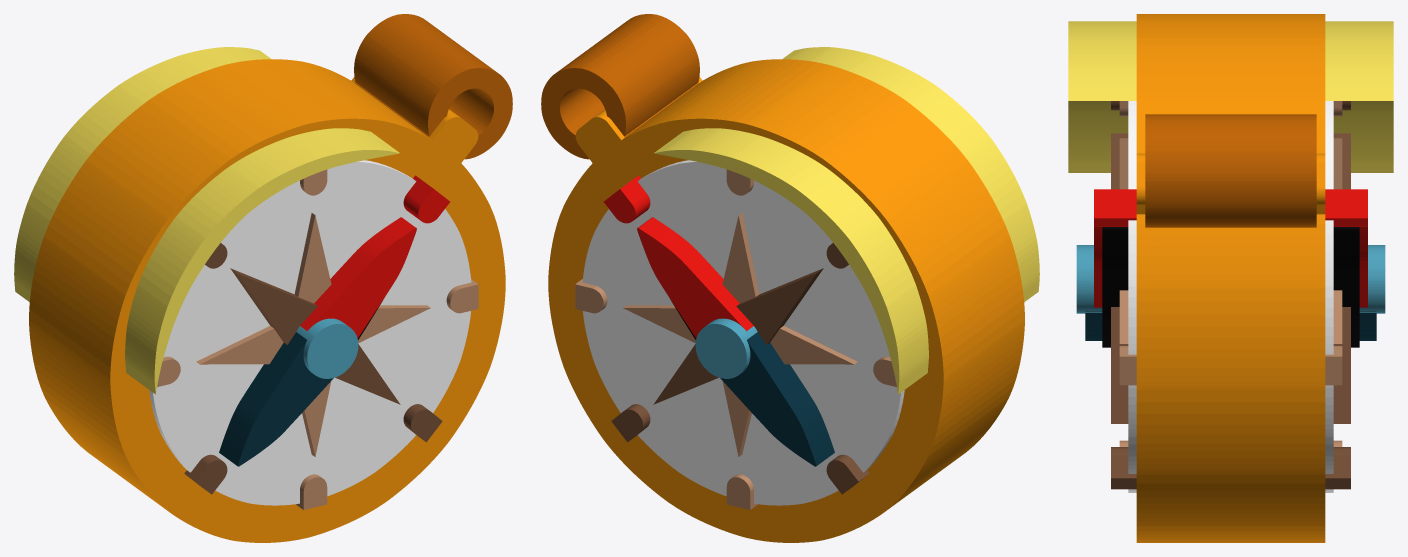
The picture shows the model from 3 angles, left to right: view 1: azimuth 30°, elevation 25°; view 2: azimuth 150°, elevation 25°; view 3: azimuth 270°, elevation 25°; orthographic projection. The views are drawn at different scales.
Visible parts, largest first — view 1: U+1F9ED_layer01_obj01, U+1F9ED_layer02_obj00, U+1F9ED_layer09_obj00, U+1F9ED_layer00_obj00, U+1F9ED_layer07_obj00, U+1F9ED_layer06_obj00, U+1F9ED_layer03_obj00, U+1F9ED_layer04_obj01, U+1F9ED_layer08_obj00, U+1F9ED_layer01_obj00, U+1F9ED_layer06_obj01, U+1F9ED_layer04_obj00 (+3 smaller); view 2: U+1F9ED_layer01_obj01, U+1F9ED_layer02_obj00, U+1F9ED_layer09_obj00, U+1F9ED_layer00_obj00, U+1F9ED_layer07_obj00, U+1F9ED_layer06_obj00, U+1F9ED_layer03_obj00, U+1F9ED_layer04_obj01, U+1F9ED_layer08_obj00, U+1F9ED_layer01_obj00, U+1F9ED_layer06_obj01, U+1F9ED_layer04_obj00 (+3 smaller); view 3: U+1F9ED_layer01_obj01, U+1F9ED_layer00_obj00, U+1F9ED_layer09_obj00, U+1F9ED_layer02_obj00, U+1F9ED_layer05_obj00, U+1F9ED_layer04_obj01, U+1F9ED_layer06_obj01, U+1F9ED_layer08_obj00, U+1F9ED_layer03_obj00, U+1F9ED_layer04_obj02, U+1F9ED_layer06_obj00, U+1F9ED_layer03_obj01 (+2 smaller).
Part boxes in pixels (x1,y1,x2,y2): U+1F9ED_layer01_obj01: (29,59,505,542); U+1F9ED_layer02_obj00: (149,160,471,505); U+1F9ED_layer09_obj00: (14,47,399,394); U+1F9ED_layer00_obj00: (354,14,512,159); U+1F9ED_layer07_obj00: (219,332,333,466); U+1F9ED_layer06_obj00: (300,217,416,338); U+1F9ED_layer03_obj00: (196,213,430,456); U+1F9ED_layer04_obj01: (230,268,400,404); U+1F9ED_layer08_obj00: (296,318,358,378); U+1F9ED_layer01_obj00: (351,77,478,167); U+1F9ED_layer06_obj01: (403,175,450,223); U+1F9ED_layer04_obj00: (184,454,227,494); U+1F9ED_layer01_obj01: (548,59,1024,542); U+1F9ED_layer02_obj00: (582,160,904,505); U+1F9ED_layer09_obj00: (654,47,1039,394); U+1F9ED_layer00_obj00: (541,14,699,159); U+1F9ED_layer07_obj00: (720,332,834,466); U+1F9ED_layer06_obj00: (637,217,753,338); U+1F9ED_layer03_obj00: (623,213,857,456); U+1F9ED_layer04_obj01: (653,268,823,404); U+1F9ED_layer08_obj00: (695,318,757,378); U+1F9ED_layer01_obj00: (575,77,702,171); U+1F9ED_layer06_obj01: (603,175,650,223); U+1F9ED_layer04_obj00: (826,454,869,494); U+1F9ED_layer01_obj01: (1136,14,1325,542); U+1F9ED_layer00_obj00: (1145,114,1316,227); U+1F9ED_layer09_obj00: (1068,21,1393,172); U+1F9ED_layer02_obj00: (1128,101,1333,492); U+1F9ED_layer05_obj00: (1102,227,1359,347); U+1F9ED_layer04_obj01: (1111,133,1350,423); U+1F9ED_layer06_obj01: (1094,189,1367,226); U+1F9ED_layer08_obj00: (1076,245,1385,313); U+1F9ED_layer03_obj00: (1119,138,1342,343); U+1F9ED_layer04_obj02: (1111,447,1350,489); U+1F9ED_layer06_obj00: (1094,227,1367,307); U+1F9ED_layer03_obj01: (1119,346,1342,385).
Size of the model in its own units: 0.3172 by 0.3174 by 0.19.
